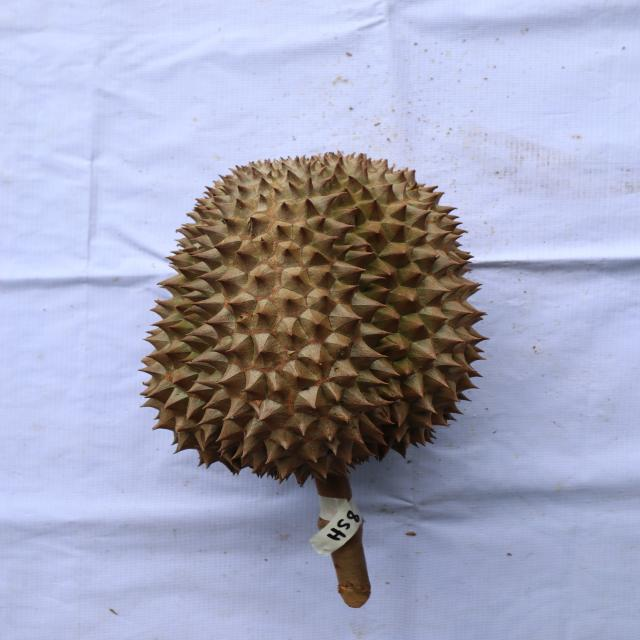mature: (135, 147, 492, 488)
